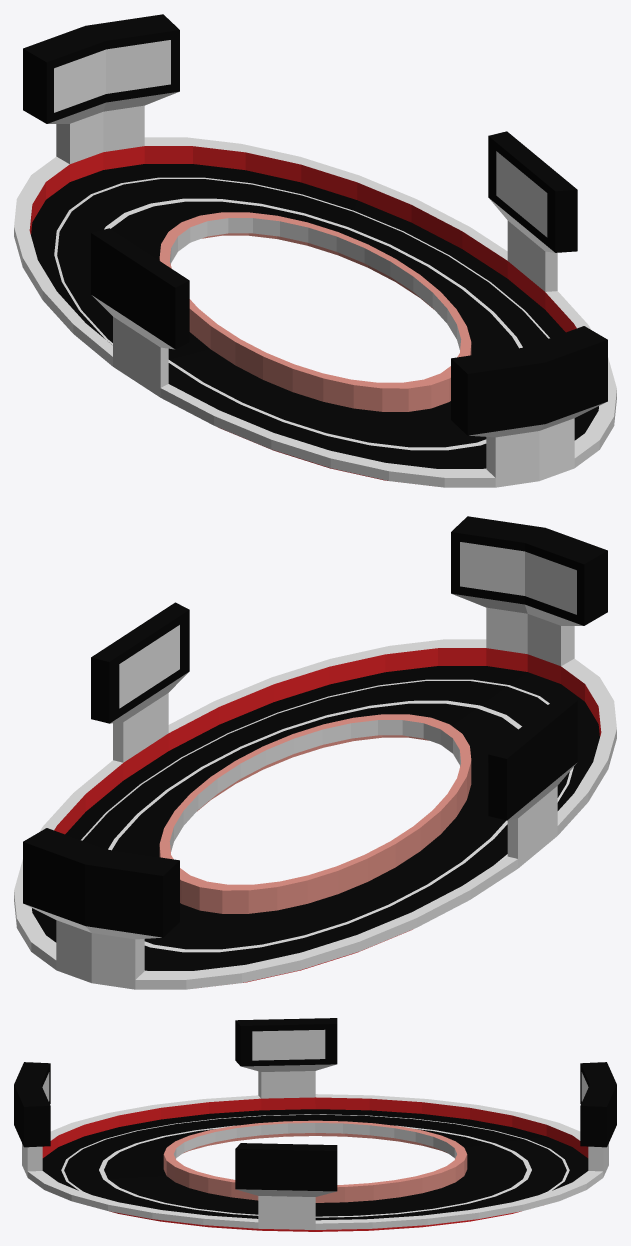
The model's file is raceTrack.fbx.
3 renders of one model, top to bottom at view 1: azimuth 30°, elevation 25°; view 2: azimuth 150°, elevation 25°; view 3: azimuth 270°, elevation 25°, orthographic. The views are drawn at different scales.
Visible parts, largest first — view 1: Circle; view 2: Circle; view 3: Circle.
Part boxes in pixels (<box>): Circle: <box>14,14,616,487</box>; Circle: <box>14,516,616,989</box>; Circle: <box>14,1018,616,1231</box>.
Size of the model in its own units: 4621 by 1393 by 8848.
